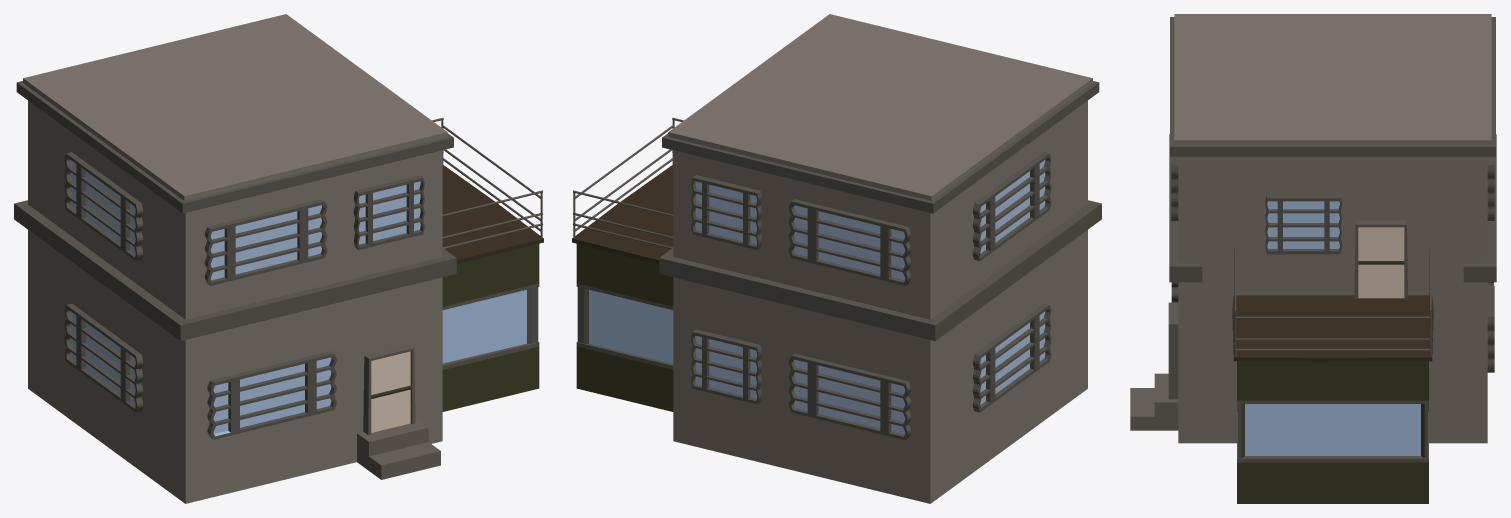
The model's file is House5.fbx.
The picture shows the model from 3 angles, left to right: view 1: azimuth 30°, elevation 25°; view 2: azimuth 150°, elevation 25°; view 3: azimuth 270°, elevation 25°; orthographic projection.
Parts seen in each view (by area): view 1: Cube; view 2: Cube; view 3: Cube.
Part boxes in pixels (x1=…): Cube: x1=14, y1=14, x2=543, y2=503; Cube: x1=572, y1=14, x2=1101, y2=503; Cube: x1=1130, y1=14, x2=1496, y2=503.
Size of the model in its own units: 638 by 476 by 518.
